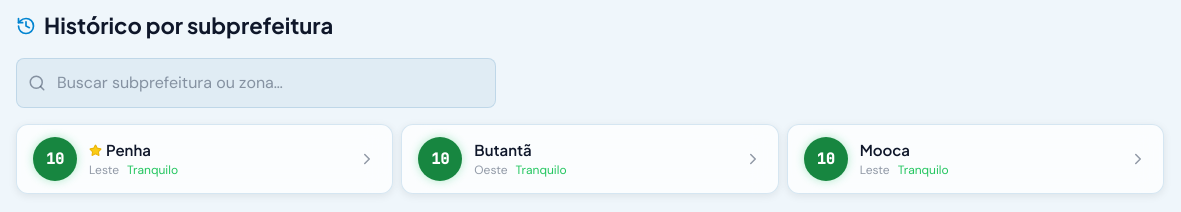
Test case: HistoricoListPage › busca por nome ou zona
Type "oeste" into the field at (256, 83), box [16,58,496,108]
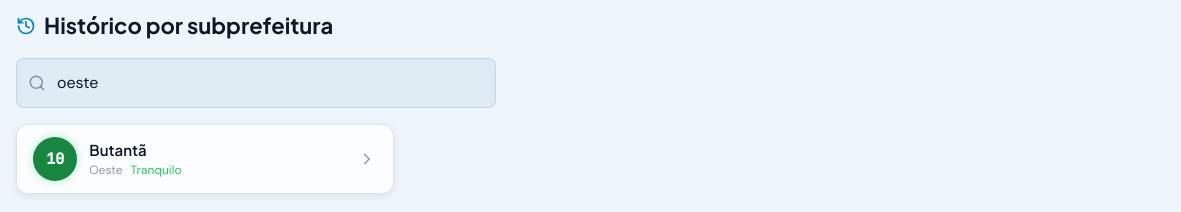
Expected: the number of buttons is 1, [16,124,393,194]
